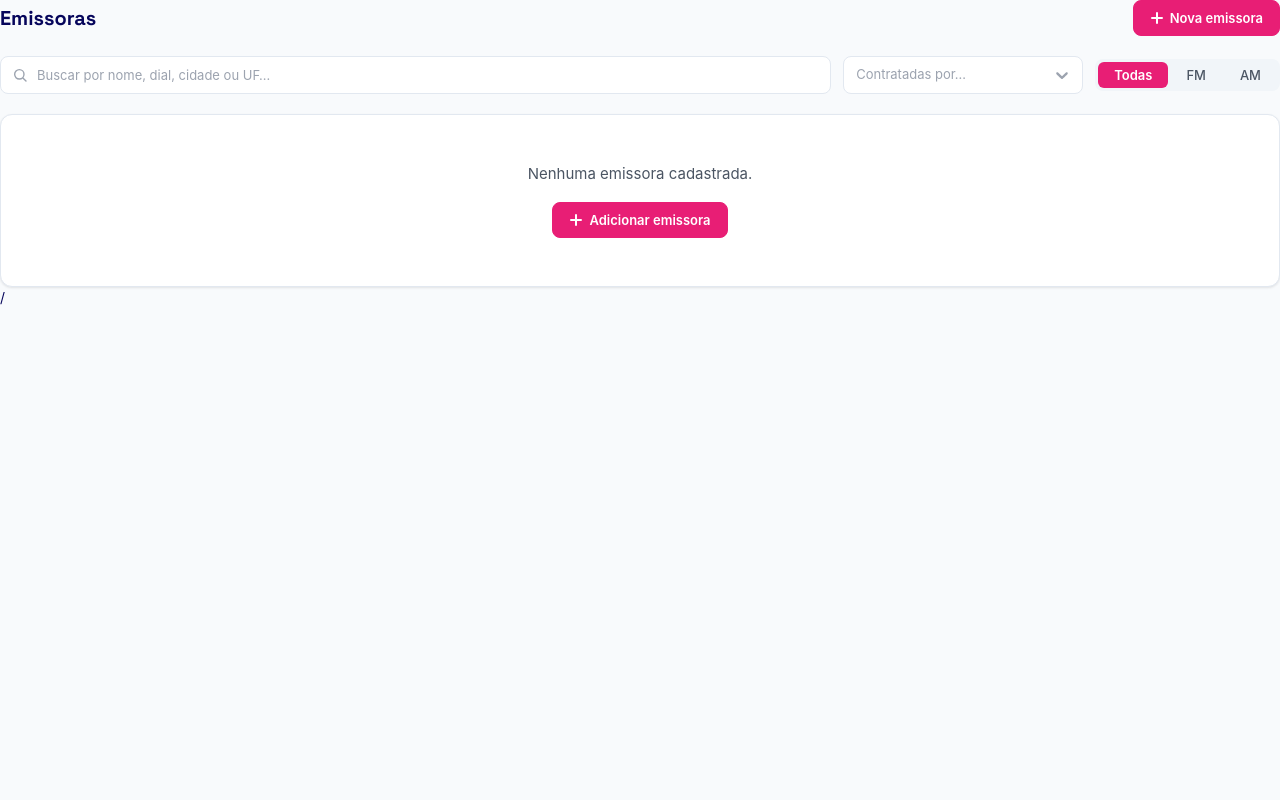
Test: StationsPage › catálogo vazio: admin vê o convite pra adicionar a primeira emissora
Expected: the text "Nenhuma emissora cadastrada." is shown, [528,164,752,183]
Click the button "Adicionar emissora": x=640, y=220 [552,202,728,238]
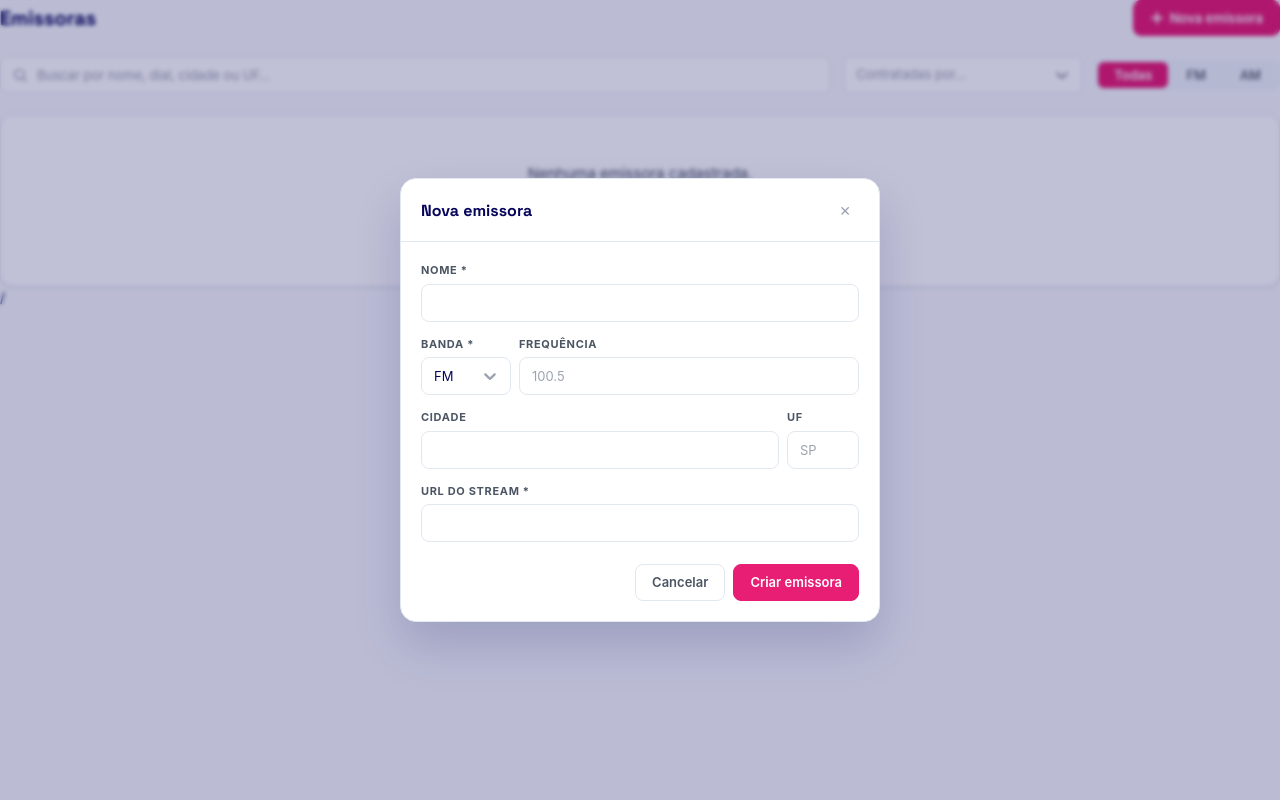
Now the heading "Nova emissora" is shown, box [421,199,532,223]
